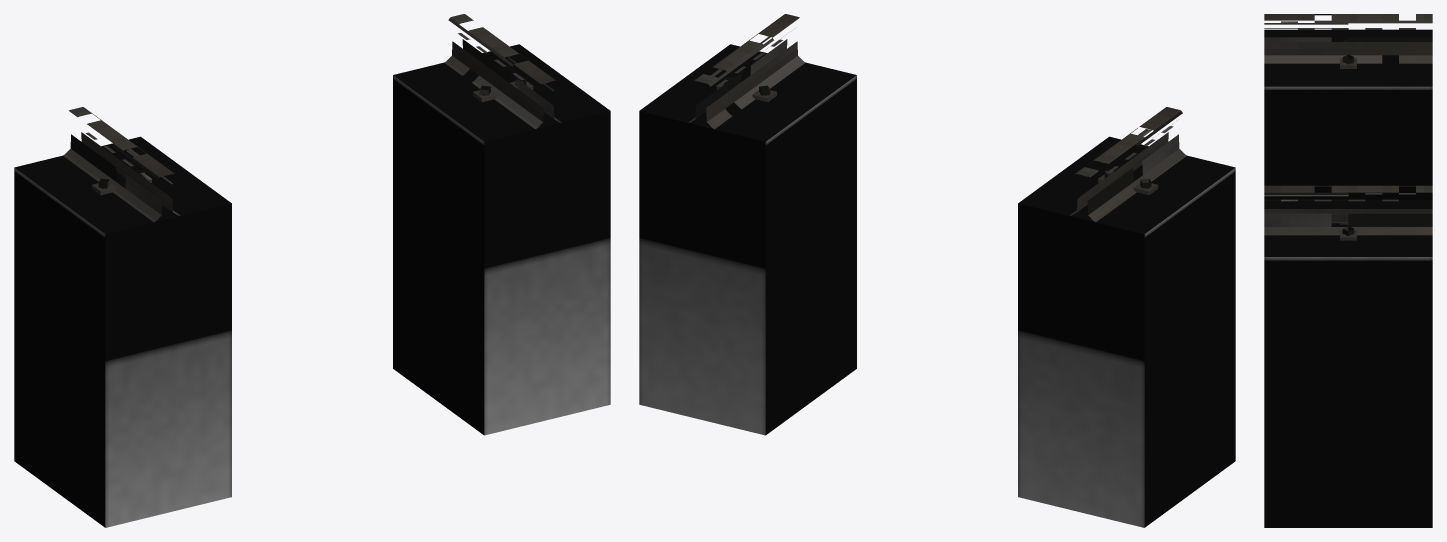
Rendered from drrc_rail_ballastless_2.obj.
3 renders of one model, left to right at view 1: azimuth 30°, elevation 25°; view 2: azimuth 150°, elevation 25°; view 3: azimuth 270°, elevation 25°, orthographic. The views are drawn at different scales.
Visible parts, largest first — view 1: cuboid, rail; view 2: cuboid, rail; view 3: cuboid, rail.
Boxes of the visible parts, bbox=[...] form: cuboid: bbox=[14, 44, 610, 527]; rail: bbox=[63, 14, 561, 222]; cuboid: bbox=[639, 44, 1235, 527]; rail: bbox=[688, 14, 1186, 222]; cuboid: bbox=[1264, 29, 1432, 527]; rail: bbox=[1264, 14, 1432, 235].
Size of the model in its own units: 2 by 1.28 by 0.625.
Materials: 2 (2 with a texture image).
